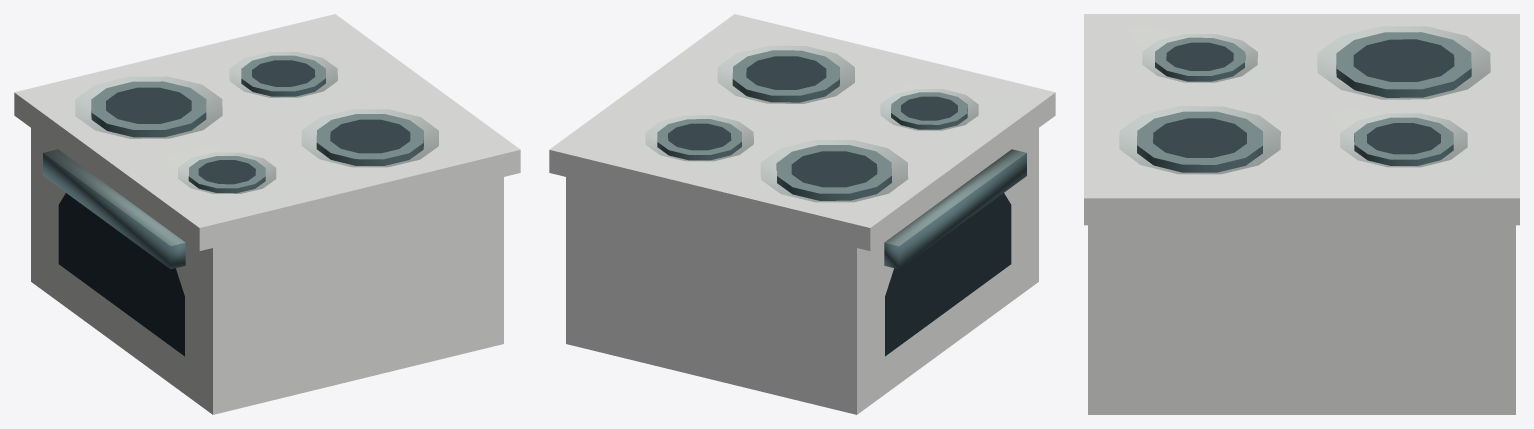
File: Counter03.fbx
The picture shows the model from 3 angles, left to right: view 1: azimuth 30°, elevation 25°; view 2: azimuth 150°, elevation 25°; view 3: azimuth 270°, elevation 25°; orthographic projection. The views are drawn at different scales.
Visible parts, largest first — view 1: Counter03; view 2: Counter03; view 3: Counter03.
Boxes of the visible parts, x1,y1,x2,y2 form: Counter03: [14, 14, 520, 414]; Counter03: [549, 14, 1055, 414]; Counter03: [1084, 14, 1519, 414].
Bounding box in the file's own units: 2 × 2 × 1.15.
